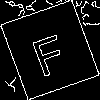F: (25, 24, 71, 78)
